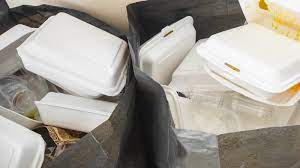styrofoam: (16, 12, 130, 99), (195, 24, 300, 100), (140, 16, 198, 82)
